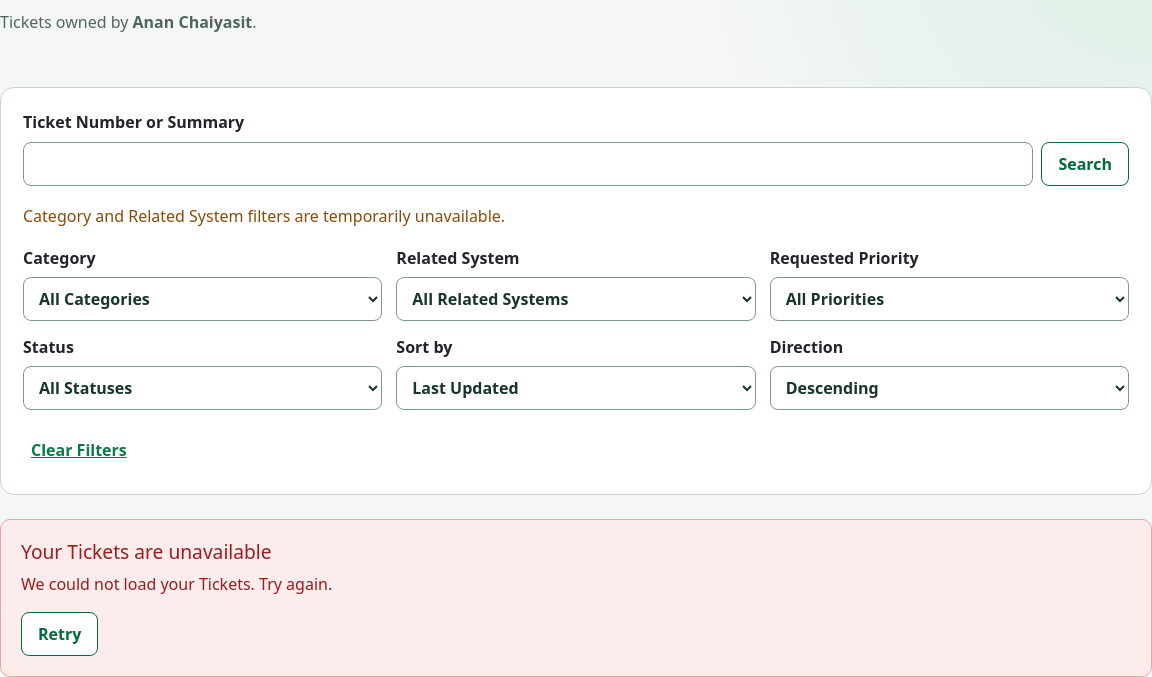
release-wide safe and recoverable UI failures › removes stale list data and retries while reference filters fail safely
(page scrolled)
Expected: the message "Your Tickets are unavailable We could not load your Tickets. Try again. Retry" is shown, [0,520,1151,676]
Expected: the message "Your Tickets are unavailable We could not load your Tickets. Try again. Retry" does not show "private ticket database detail", [0,520,1151,676]
Click the button "Retry" at point(60, 634), box [21,612,98,656]
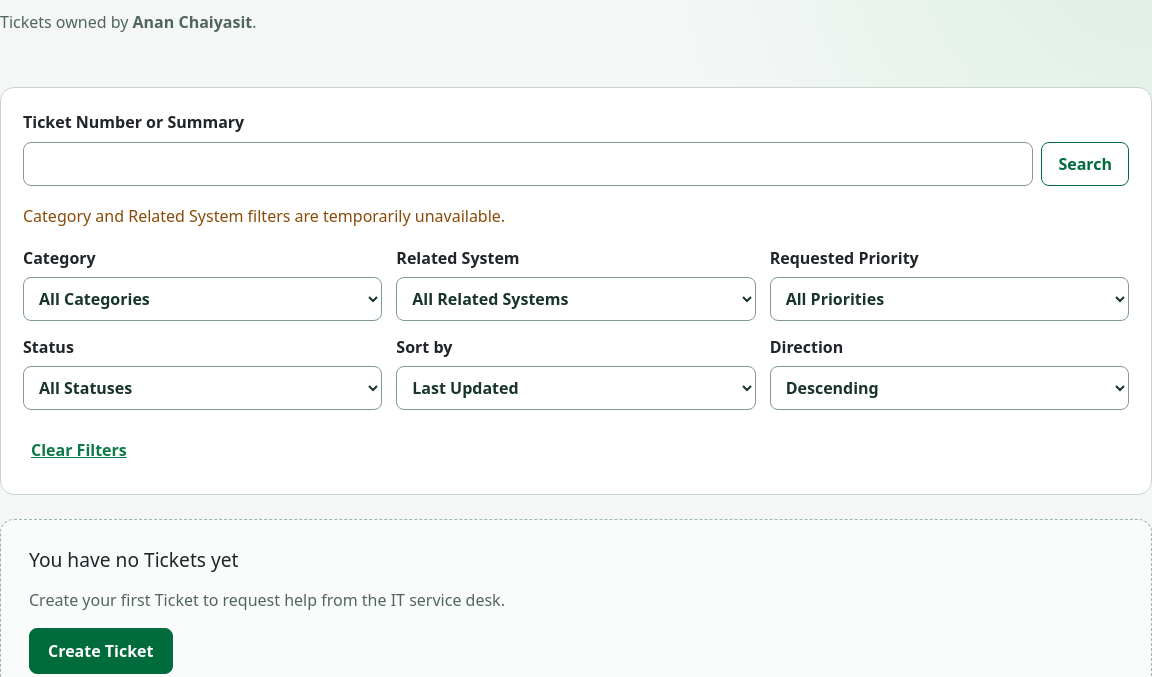
Now the heading "You have no Tickets yet" is shown, box [29,548,238,572]
